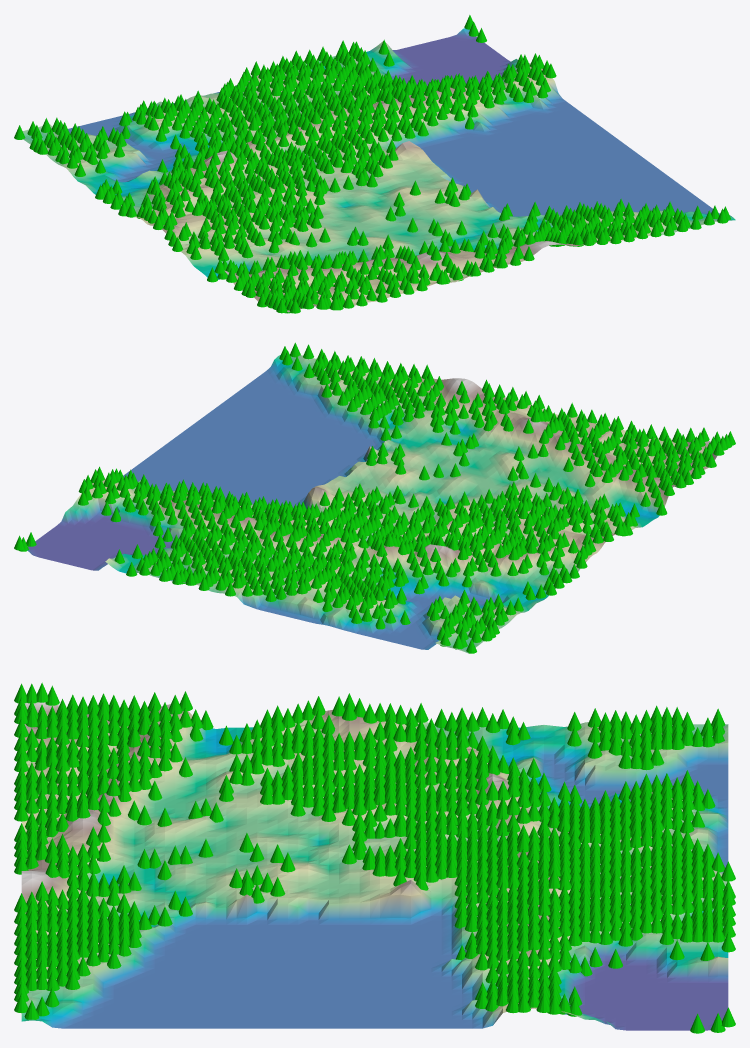
File: 003477_with_tree.glb
3 renders of one model, top to bottom at view 1: azimuth 30°, elevation 25°; view 2: azimuth 150°, elevation 25°; view 3: azimuth 270°, elevation 25°, orthographic. The views are drawn at different scales.
Parts seen in each view (by area): view 1: trees, terrain; view 2: trees, terrain; view 3: trees, terrain.
Boxes of the visible parts, bbox=[...] form: trees: bbox=[14, 15, 730, 313]; terrain: bbox=[22, 28, 735, 312]; trees: bbox=[14, 342, 735, 653]; terrain: bbox=[27, 355, 717, 652]; trees: bbox=[14, 682, 735, 1033]; terrain: bbox=[21, 702, 728, 1030].
Size of the model in its own units: 0.0187 by 0.00156 by 0.019.
